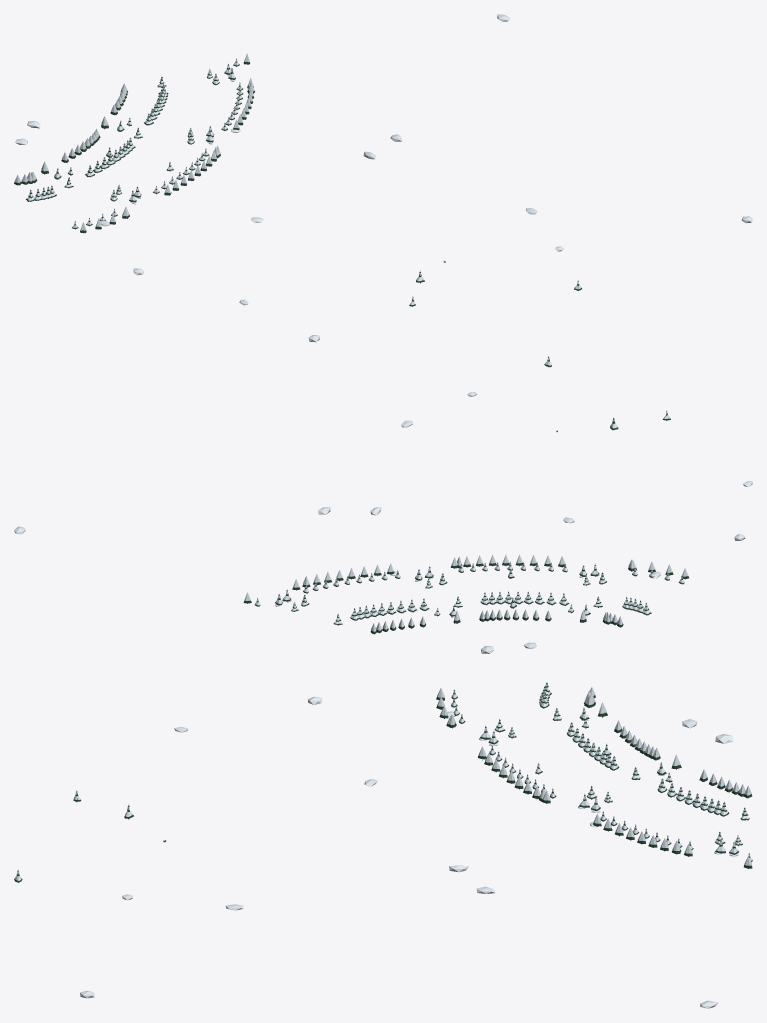
Rendered from Fill_-2_-1.fbx.
3 views of the same model, one above another, from view 1: azimuth 30°, elevation 25°; view 2: azimuth 150°, elevation 25°; view 3: azimuth 270°, elevation 25° (orthographic). The views are drawn at different scales.
Visible parts, largest first — view 1: Fill_-2_-1; view 2: Fill_-2_-1; view 3: Fill_-2_-1.
Part boxes in pixels (x1,y1,x2,y2): Fill_-2_-1: (14, 14, 752, 306); Fill_-2_-1: (14, 335, 752, 653); Fill_-2_-1: (14, 682, 752, 1008).
Bounding box in the file's own units: 38444 × 1135 × 38201.
